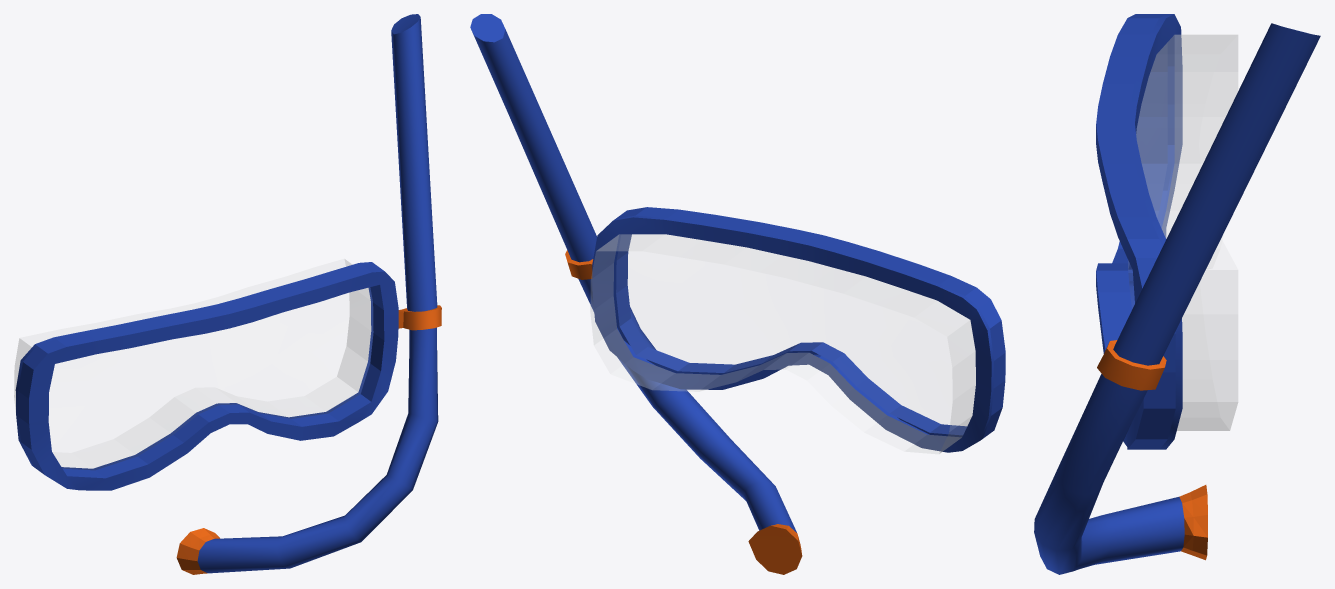
Rendered from GafasBucear.FBX.
3 renders of one model, left to right at view 1: azimuth 30°, elevation 25°; view 2: azimuth 150°, elevation 25°; view 3: azimuth 270°, elevation 25°, orthographic. The views are drawn at different scales.
Visible parts, largest first — view 1: Gafas, Tubo_Para_Respirar; view 2: Gafas, Tubo_Para_Respirar; view 3: Gafas, Tubo_Para_Respirar.
Boxes of the visible parts, bbox=[...] form: Gafas: bbox=[14, 259, 398, 490]; Tubo_Para_Respirar: bbox=[176, 14, 441, 574]; Gafas: bbox=[590, 207, 1005, 453]; Tubo_Para_Respirar: bbox=[470, 14, 802, 574]; Gafas: bbox=[1096, 14, 1237, 449]; Tubo_Para_Respirar: bbox=[1034, 23, 1320, 574].
Size of the model in its own units: 93.12 by 96.14 by 35.31.
Materials: 4 (4 with a texture image).
